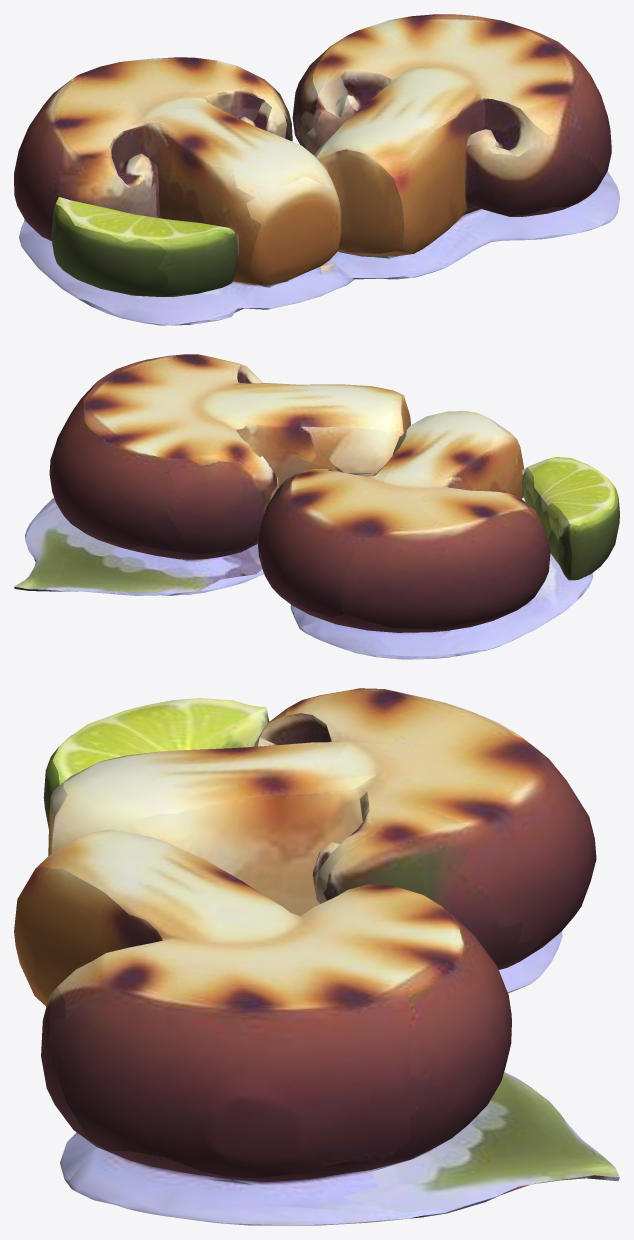
The model's file is matsutake_grill.glb.
3 renders of one model, top to bottom at view 1: azimuth 30°, elevation 25°; view 2: azimuth 150°, elevation 25°; view 3: azimuth 270°, elevation 25°, orthographic. The views are drawn at different scales.
Parts seen in each view (by area): view 1: item_matsutake_grill; view 2: item_matsutake_grill; view 3: item_matsutake_grill.
Boxes of the visible parts, <box> form: item_matsutake_grill: <box>14,14,619,325</box>; item_matsutake_grill: <box>14,354,619,659</box>; item_matsutake_grill: <box>14,688,619,1225</box>.
Size of the model in its own units: 1 by 0.2282 by 0.6515.
Materials: 1 (1 with a texture image).
